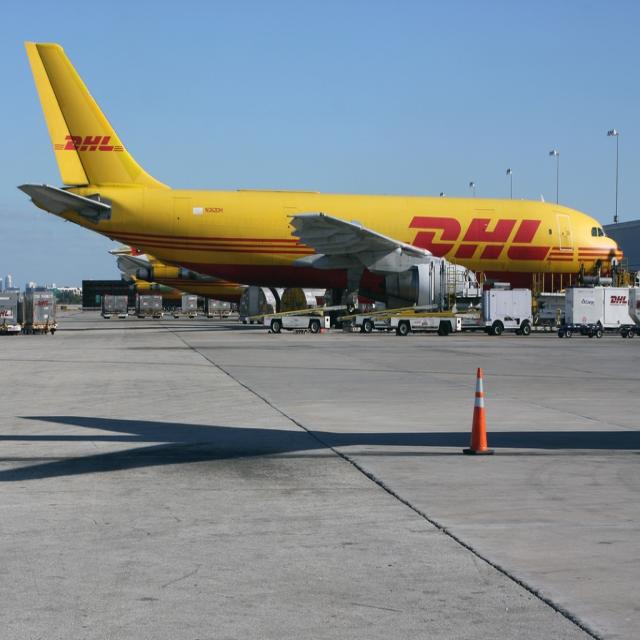dhl: (402, 211, 579, 268), (52, 131, 128, 161)
